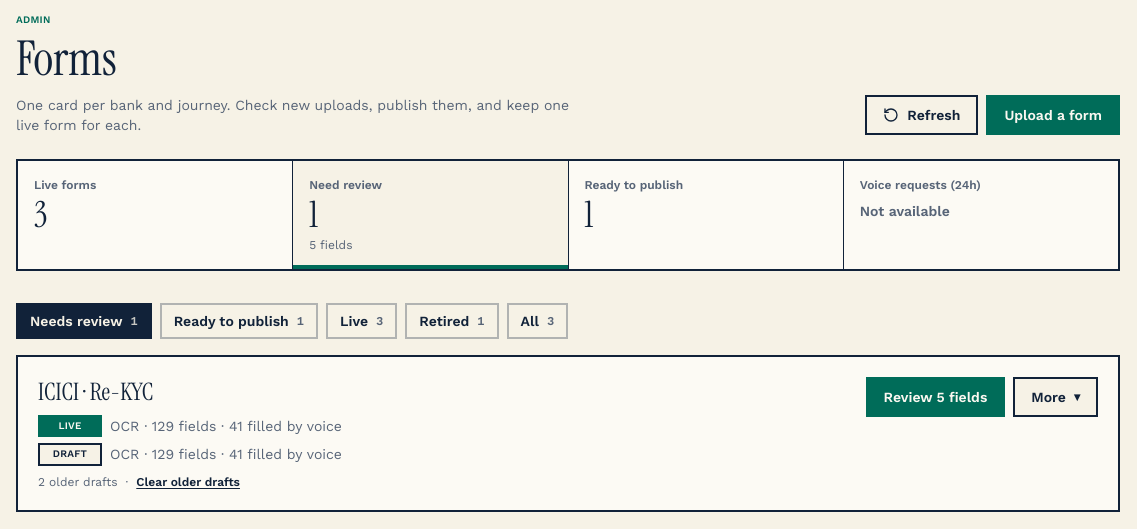
it: ConsolePage › shows stat tiles that set the filter, and "Not available" for missing voice counts
The width and height of the screenshot is (1137, 529).
Expected: the element "ICICI · Re-KYC" is shown, x1=16 y1=355 x2=1120 y2=512
Expected: the button "Need review 1 5 fields" is shown, x1=293 y1=161 x2=568 y2=269
Step 1. Click the button "Ready to publish 1" next to "Voice requests (24h)" → (634, 185), box x1=568 y1=161 x2=843 y2=269
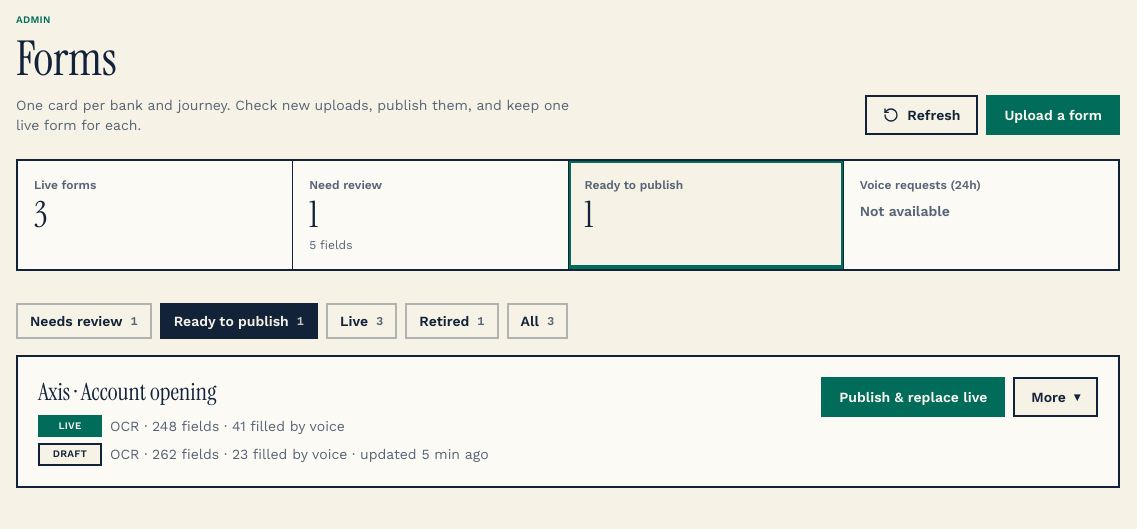
Expected: the element "Axis · Account opening" is shown, x1=16 y1=355 x2=1120 y2=488
Expected: the heading "ICICI · Re-KYC" is gone
